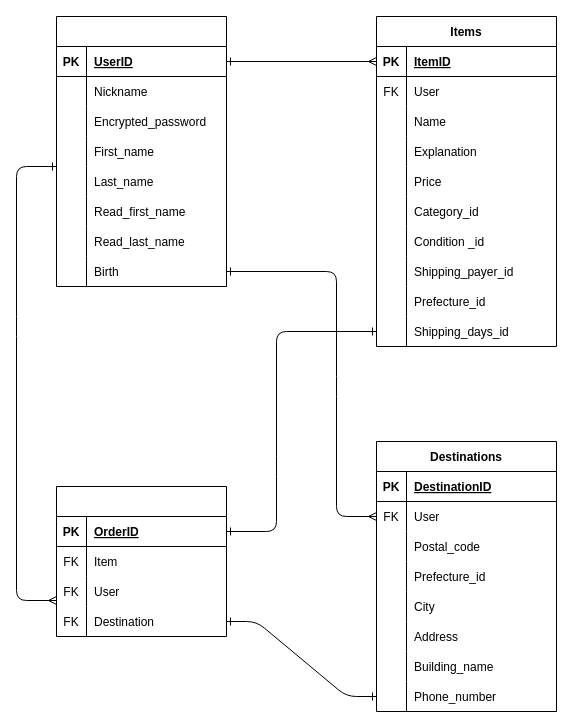
The diagram is 573 pixels wide and 728 high, and some of its shapes have lost their labels. Here are the shapes that lost their labels. From the top down, the box of each, then its label:
(56, 16, 226, 286): Users
(56, 486, 226, 636): Orders
